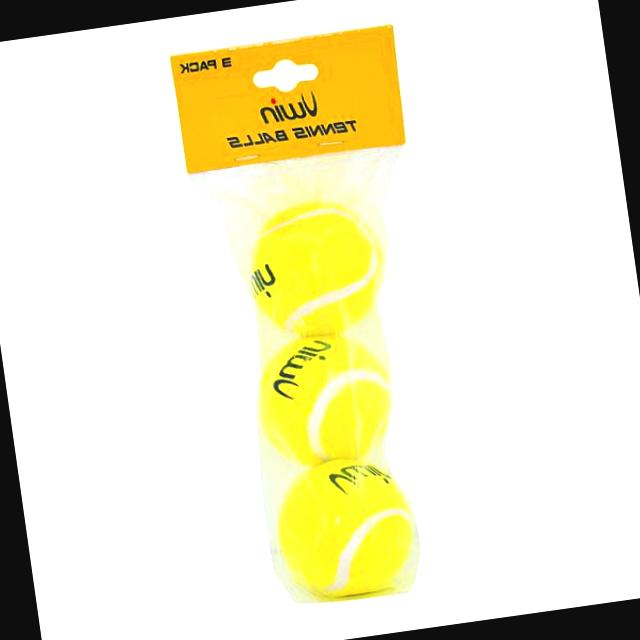ball: (245, 318, 402, 473)
